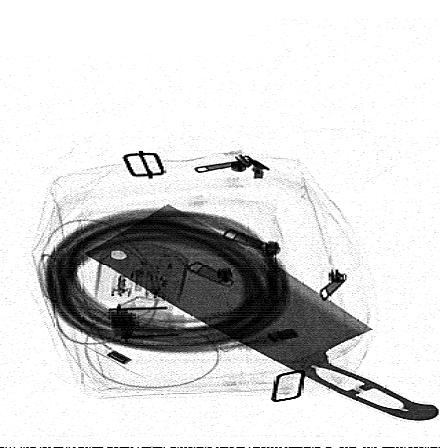Knife: (81, 203, 439, 423)
